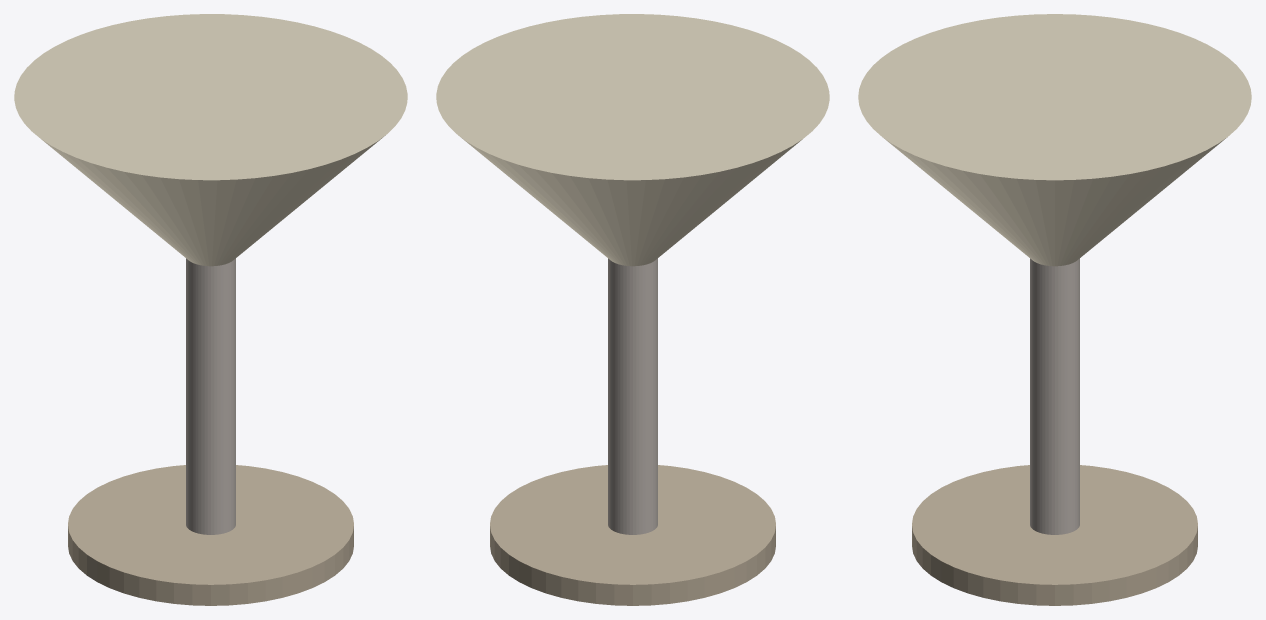
The model's file is lamp.glb.
3 views of the same model, side by side, from view 1: azimuth 30°, elevation 25°; view 2: azimuth 150°, elevation 25°; view 3: azimuth 270°, elevation 25° (orthographic).
Visible parts, largest first — view 1: world; view 2: world; view 3: world.
Boxes of the visible parts, x1,y1,x2,y2 form: world: [14, 14, 407, 605]; world: [436, 14, 829, 605]; world: [858, 14, 1251, 605].
Size of the model in its own units: 1.1 by 1.38 by 1.1.
